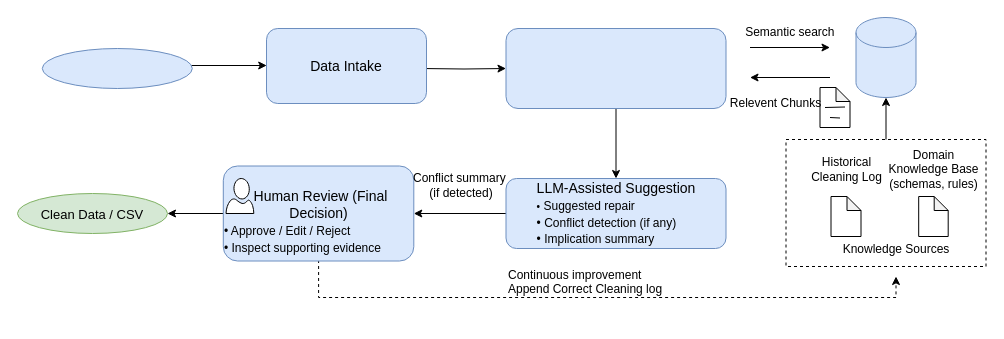
The diagram is 1004 pixels wide and 339 high, and some of its shapes have lost their labels. The centre of each missing label's shape, as x and y in pixels:
"Dirty Data / CSV" goes at [116,68].
"Dual-Source Retrieval (Historical Logs + Domain Rules)" goes at [615,68].
"Vector database" goes at [885,57].
